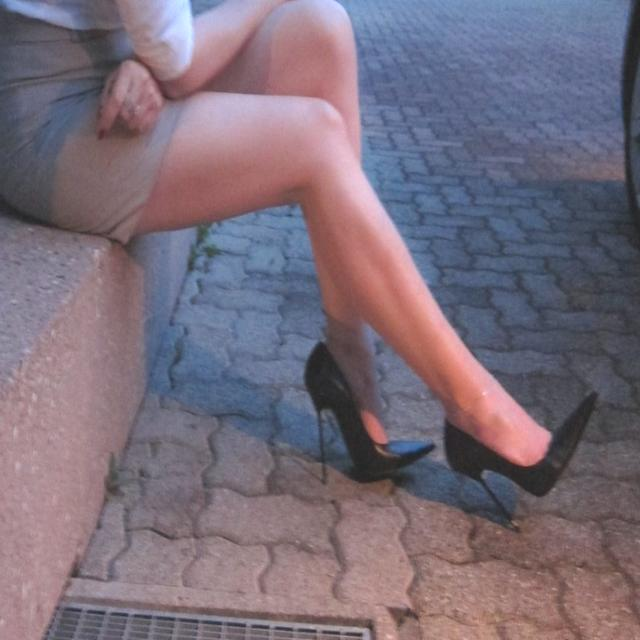piel: (99, 0, 553, 469)
